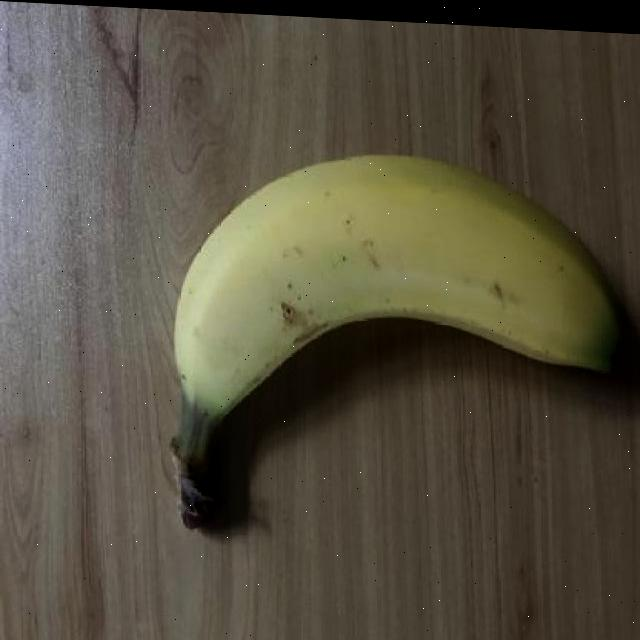banana: (161, 140, 640, 549)
